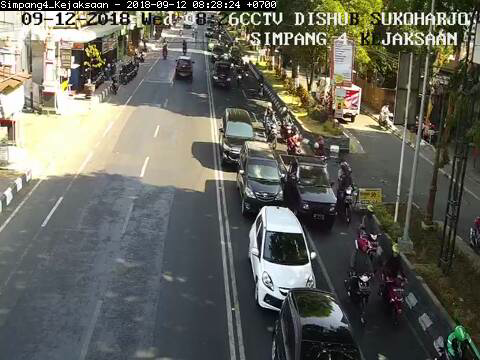motor: (378, 241, 411, 328), (343, 236, 373, 329), (334, 158, 357, 226), (359, 203, 383, 268)
